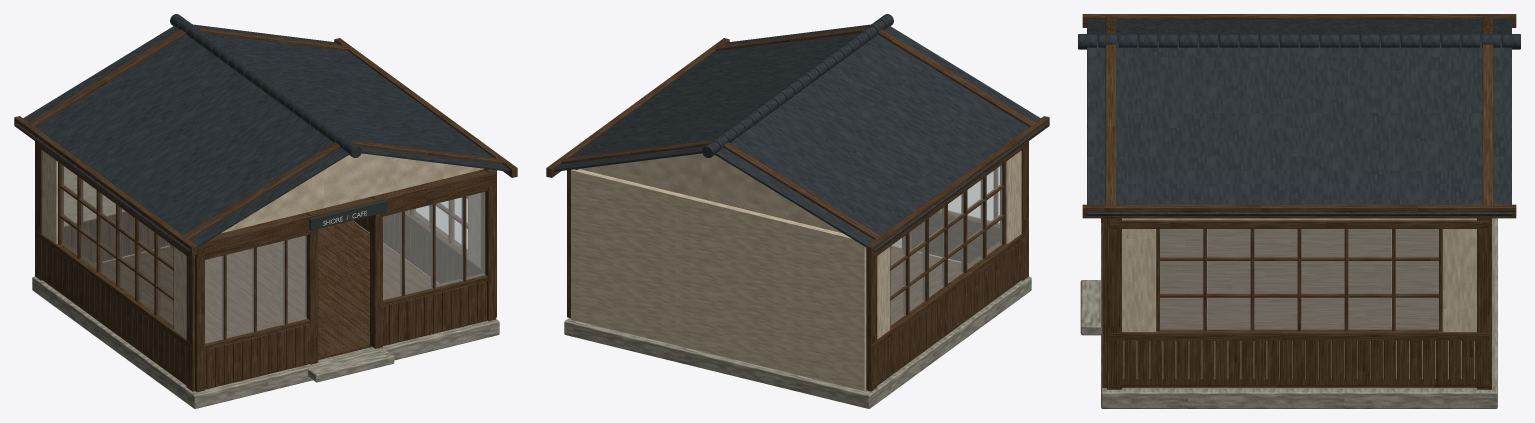
File: cafe-room.glb
3 renders of one model, left to right at view 1: azimuth 30°, elevation 25°; view 2: azimuth 150°, elevation 25°; view 3: azimuth 270°, elevation 25°, orthographic. The views are drawn at different scales.
Visible parts, largest first — view 1: ROOM_ROOF__MAT_ROOF, ROOM_FRONT__MAT_WOOD, ROOM_FLOOR__MAT_FLOOR, ROOM_FRONT__MAT_GLASS, ROOM_LEFT__MAT_WOOD, ROOM_FLOOR__MAT_STONE, ROOM_ROOF__MAT_WOOD, ROOM_LEFT__MAT_GLASS, ROOM_ROOF__MAT_WALL, ROOM_RIGHT__MAT_WOOD, ROOM_LEFT__MAT_WALL, ROOM_BACK__MAT_WOOD (+4 smaller); view 2: ROOM_ROOF__MAT_ROOF, ROOM_BACK__MAT_WALL, ROOM_LEFT__MAT_WOOD, ROOM_FLOOR__MAT_STONE, ROOM_ROOF__MAT_WOOD, ROOM_LEFT__MAT_GLASS, ROOM_ROOF__MAT_WALL, ROOM_LEFT__MAT_WALL, ROOM_FRONT__MAT_WOOD, ROOM_FLOOR__MAT_FLOOR, ROOM_FRONT__MAT_GLASS, ROOM_RIGHT__MAT_WOOD; view 3: ROOM_ROOF__MAT_ROOF, ROOM_RIGHT__MAT_WOOD, ROOM_RIGHT__MAT_GLASS, ROOM_FLOOR__MAT_FLOOR, ROOM_ROOF__MAT_WOOD, ROOM_RIGHT__MAT_WALL, ROOM_FLOOR__MAT_STONE, ROOM_FRONT__MAT_WOOD, ROOM_BACK__MAT_WALL.
Boxes of the visible parts, x1,y1,x2,y2 form: ROOM_ROOF__MAT_ROOF: (14, 14, 510, 252); ROOM_FRONT__MAT_WOOD: (195, 169, 496, 392); ROOM_FLOOR__MAT_FLOOR: (102, 220, 438, 359); ROOM_FRONT__MAT_GLASS: (205, 192, 484, 343); ROOM_LEFT__MAT_WOOD: (35, 141, 194, 391); ROOM_FLOOR__MAT_STONE: (32, 220, 499, 408); ROOM_ROOF__MAT_WOOD: (14, 27, 517, 255); ROOM_LEFT__MAT_GLASS: (62, 165, 173, 325); ROOM_ROOF__MAT_WALL: (221, 153, 484, 233); ROOM_RIGHT__MAT_WOOD: (353, 169, 496, 317); ROOM_LEFT__MAT_WALL: (42, 150, 186, 374); ROOM_BACK__MAT_WOOD: (64, 211, 173, 263); ROOM_ROOF__MAT_ROOF: (553, 14, 1049, 252); ROOM_BACK__MAT_WALL: (571, 169, 866, 391); ROOM_LEFT__MAT_WOOD: (866, 141, 1028, 391); ROOM_FLOOR__MAT_STONE: (564, 238, 1031, 408); ROOM_ROOF__MAT_WOOD: (546, 27, 1049, 255); ROOM_LEFT__MAT_GLASS: (890, 165, 1001, 325); ROOM_ROOF__MAT_WALL: (579, 153, 842, 233); ROOM_LEFT__MAT_WALL: (877, 150, 1021, 374); ROOM_FRONT__MAT_WOOD: (902, 168, 999, 263); ROOM_FLOOR__MAT_FLOOR: (890, 246, 961, 320); ROOM_FRONT__MAT_GLASS: (941, 167, 999, 224); ROOM_RIGHT__MAT_WOOD: (567, 169, 578, 318); ROOM_ROOF__MAT_ROOF: (1078, 19, 1520, 215); ROOM_RIGHT__MAT_WOOD: (1107, 218, 1491, 389); ROOM_RIGHT__MAT_GLASS: (1160, 229, 1438, 329); ROOM_FLOOR__MAT_FLOOR: (1160, 229, 1438, 326); ROOM_ROOF__MAT_WOOD: (1082, 14, 1516, 218); ROOM_RIGHT__MAT_WALL: (1122, 218, 1476, 388); ROOM_FLOOR__MAT_STONE: (1080, 218, 1497, 408); ROOM_FRONT__MAT_WOOD: (1101, 218, 1106, 387); ROOM_BACK__MAT_WALL: (1492, 218, 1495, 386).
Size of the model in its own units: 6.88 by 4.66 by 6.58.
Materials: 8 (5 with a texture image).
